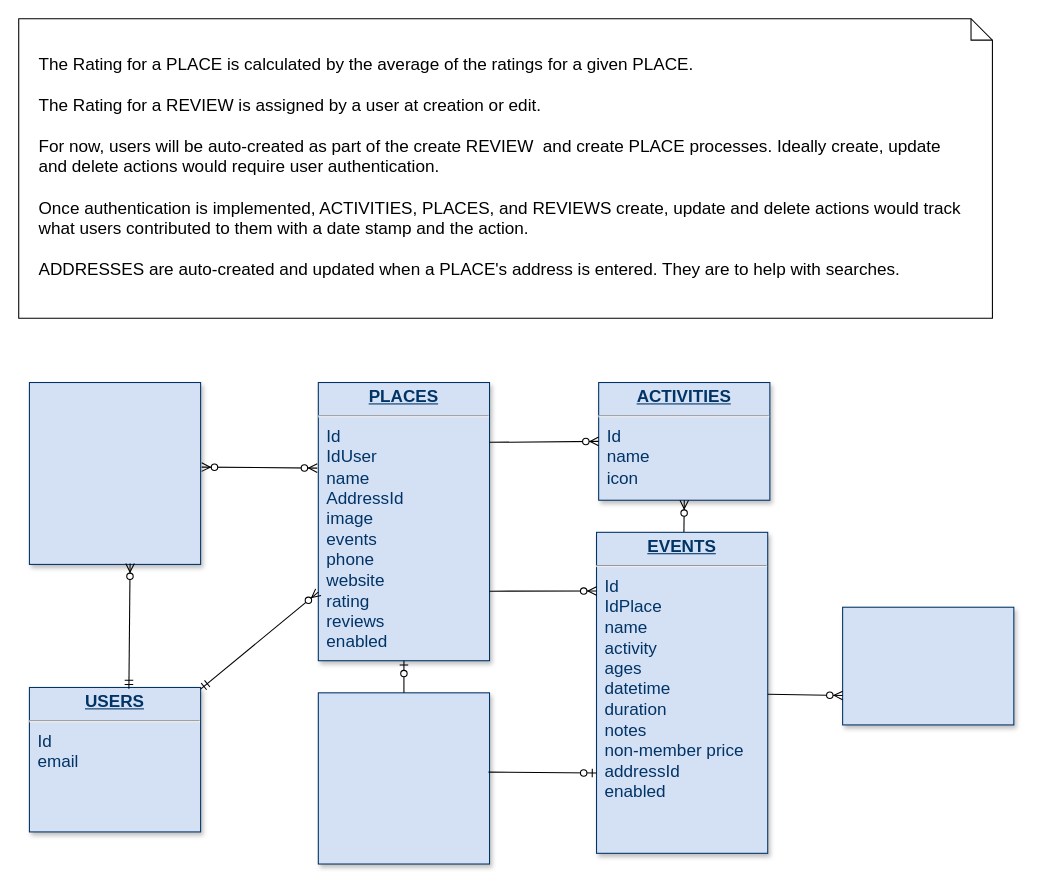
Some shapes in this 1039 by 890 pixel diagram are drawn without their labels. The centre of each missing label's shape, as x and y in pixels:
"ADDRESSES Id street City State PostalCode Country" belongs at (404,779).
"AGES Id age" belongs at (928,667).
"REVIEWS Id rating IdUser IdPlace comments enabled" belongs at (115,474).
